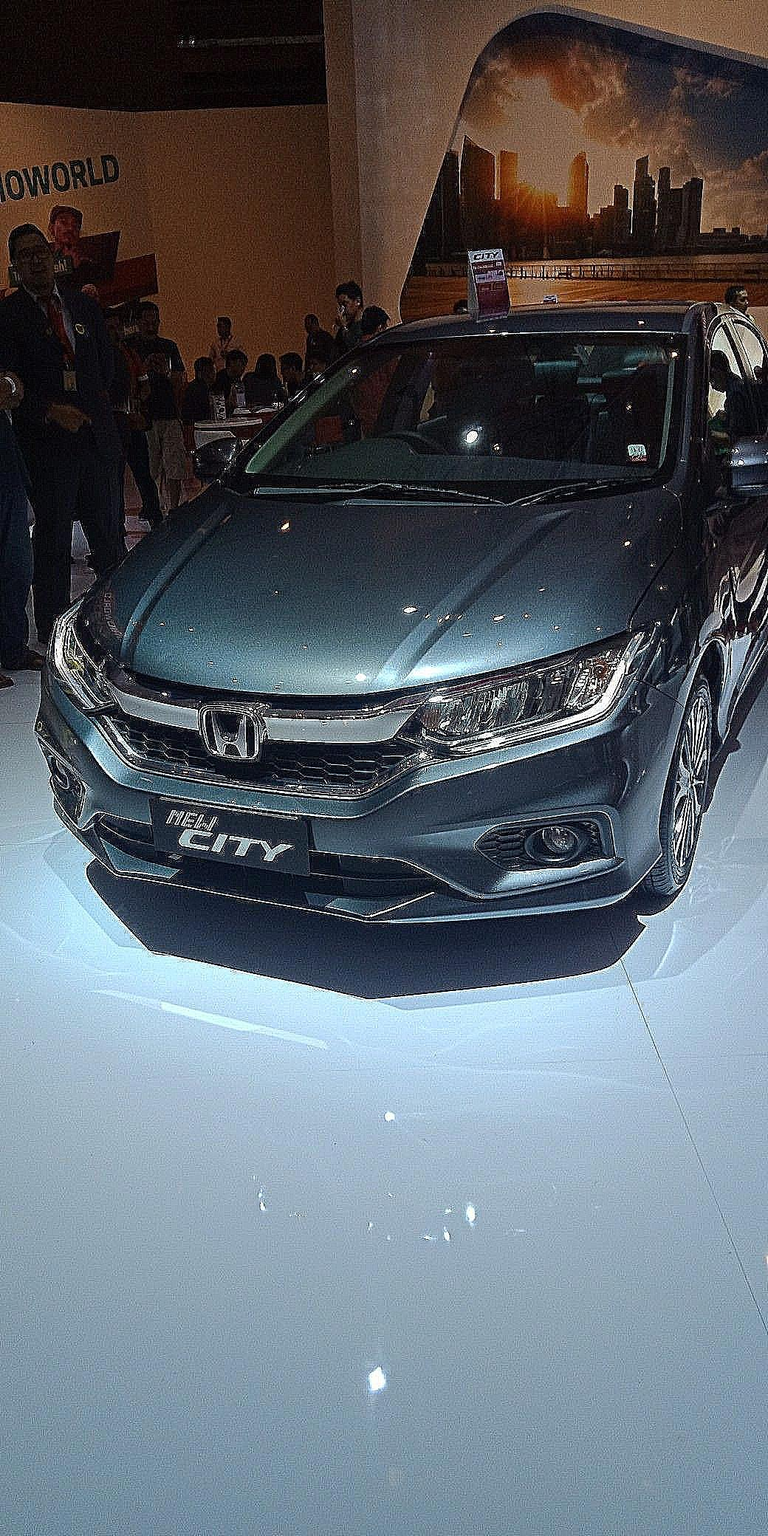Car hood: (78, 480, 682, 701)
Fender - -F-L-: (624, 488, 750, 759)
Front bumper: (12, 692, 689, 934)
Headlight - -L-: (400, 616, 670, 764)
Headlight - -R-: (30, 586, 136, 721)
Side mirror - -L-: (715, 430, 768, 494)
Side mirror - -R-: (185, 425, 253, 490)
